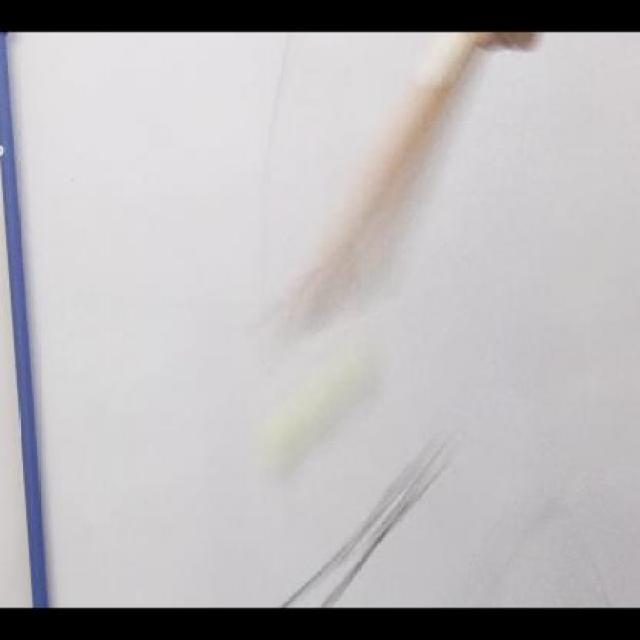baseball: (256, 334, 384, 478)
